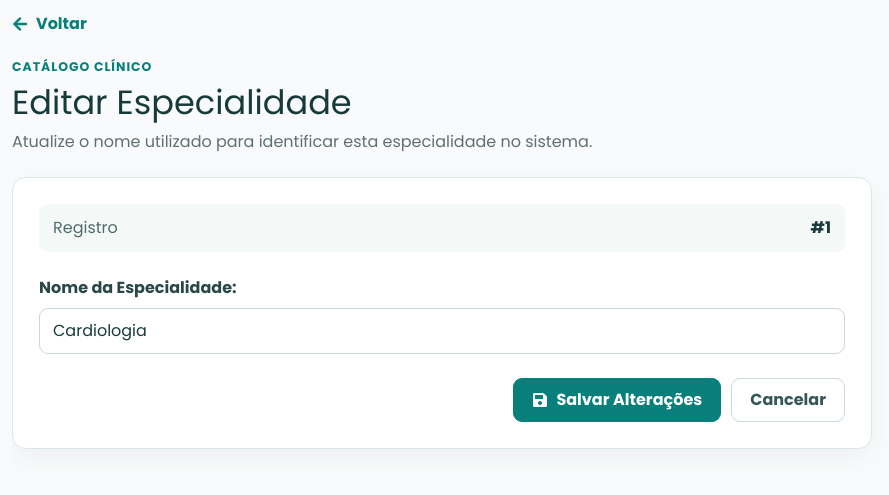
Test: EditSpecialtyPage › deve mostrar erro ao tentar salvar com campo vazio
Clear the field labelled "Nome da Especialidade:": point(442, 331) [39, 308, 845, 354]
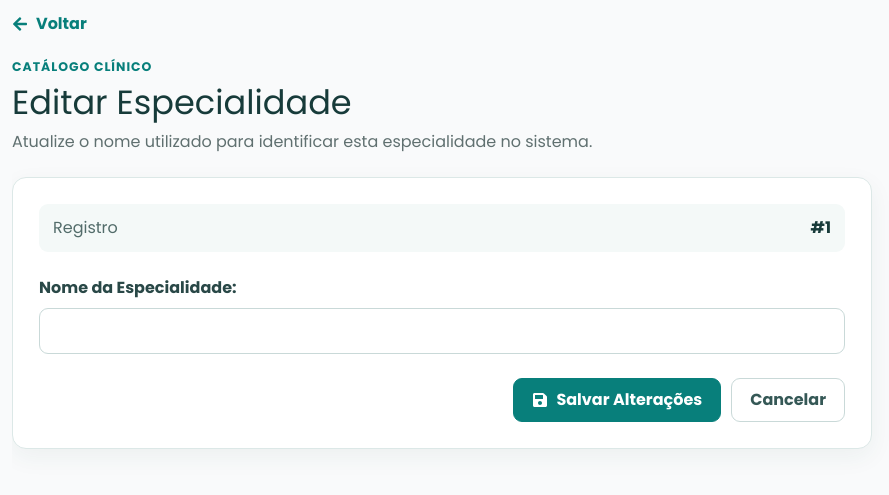
Submit the form from the button "Salvar Alterações", box [513, 378, 721, 422]
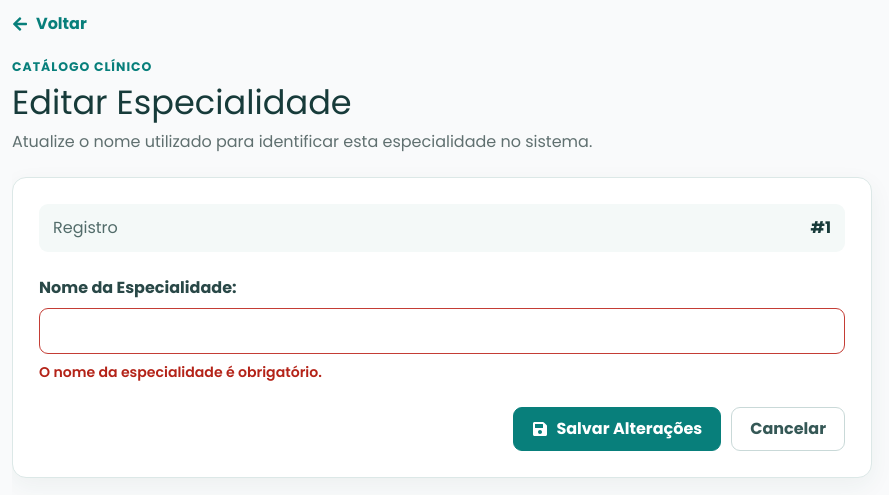
Expected: the text "O nome da especialidade é obrigatório." is shown, [39, 362, 322, 382]
